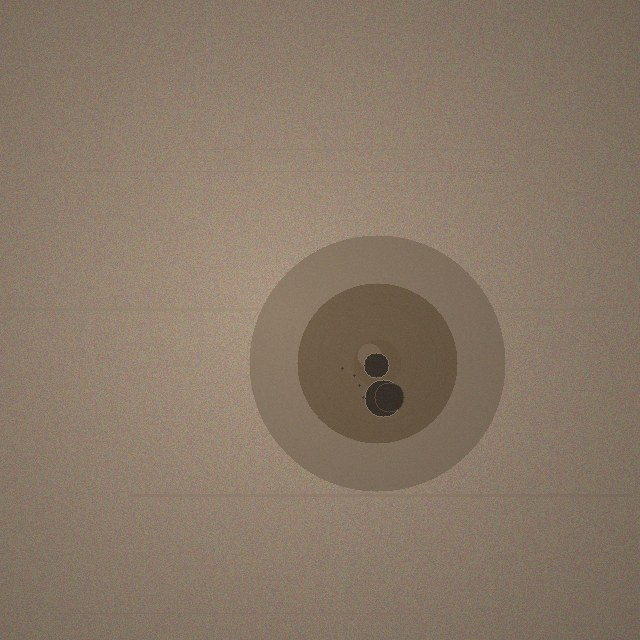shrinkage: (249, 235, 505, 491)
